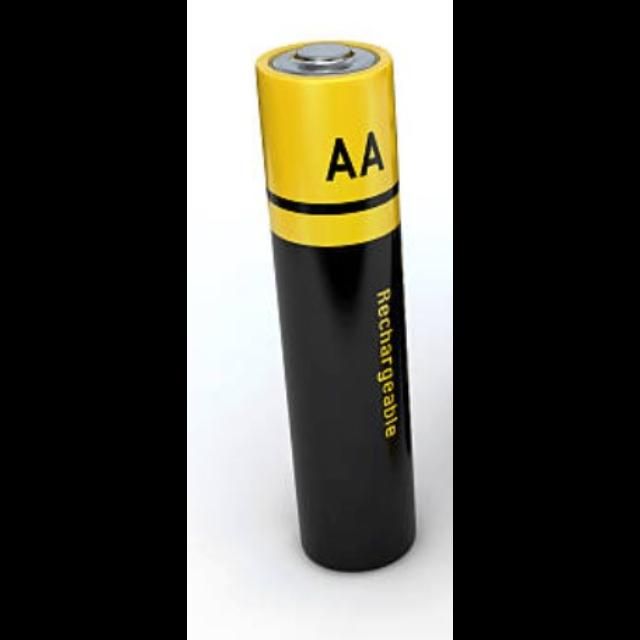Battery: (256, 41, 415, 571)
